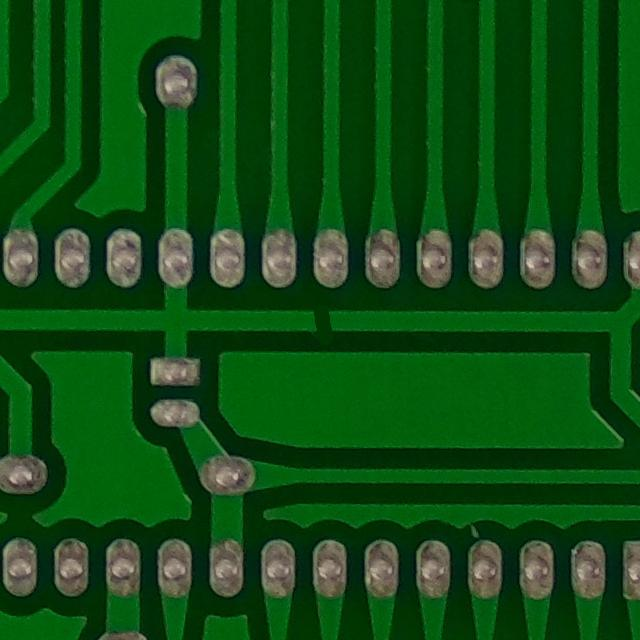open_circuit: (297, 298, 344, 343)
